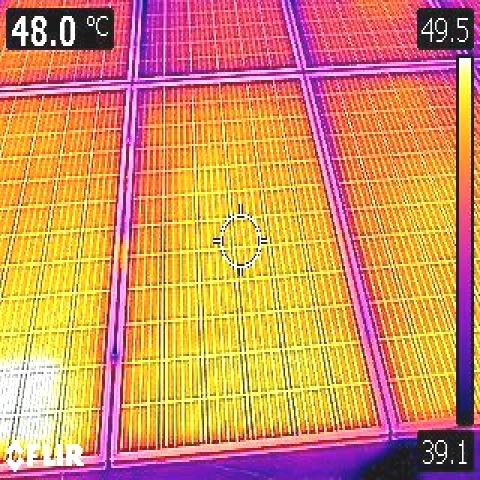fault: (0, 358, 66, 438)
